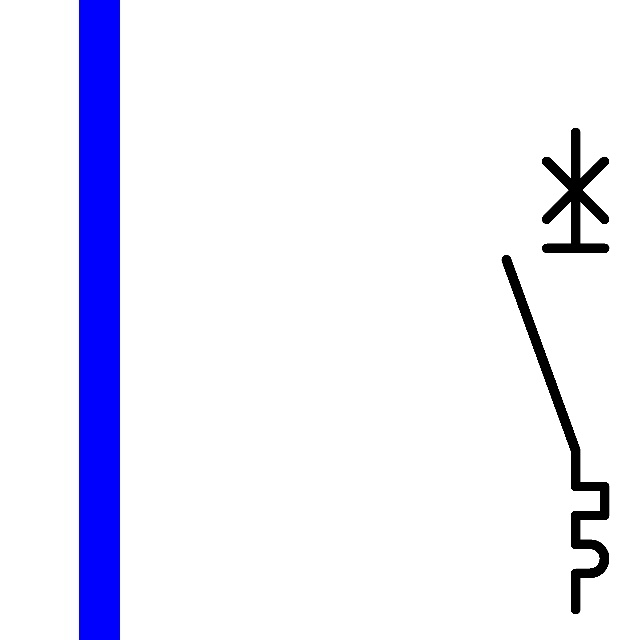interruptor_termomagnetico: (494, 120, 617, 622)
